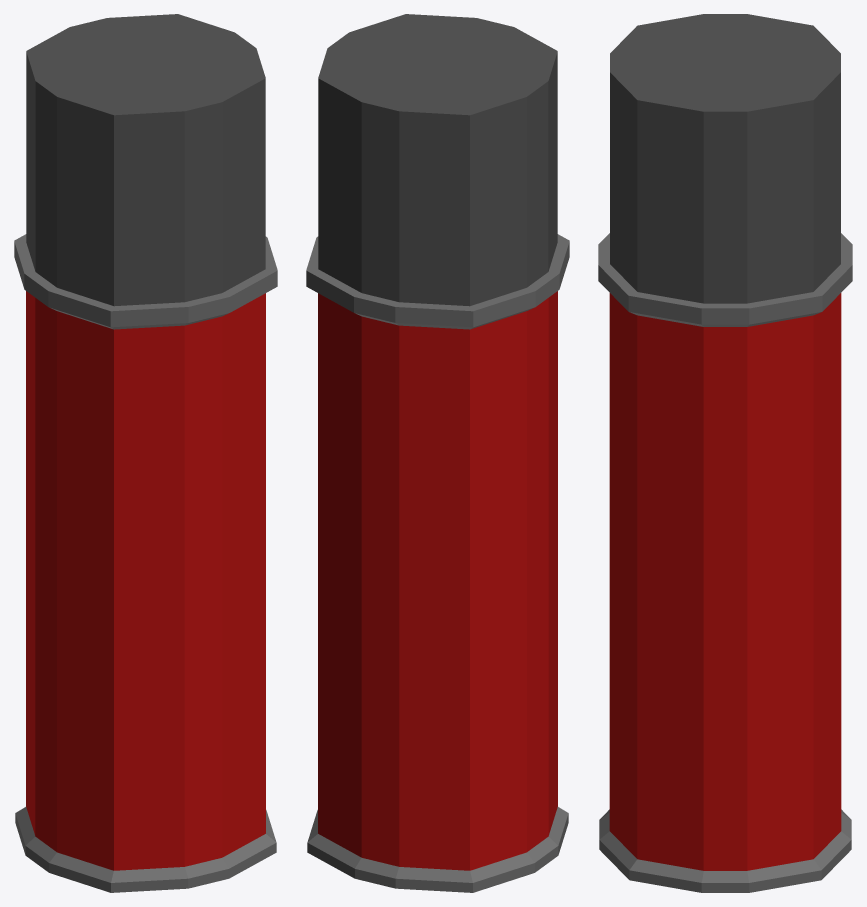
3 renders of one model, left to right at view 1: azimuth 30°, elevation 25°; view 2: azimuth 150°, elevation 25°; view 3: azimuth 270°, elevation 25°, orthographic.
Visible parts, largest first — view 1: F-31; view 2: F-31; view 3: F-31.
Part boxes in pixels (x1,y1,x2,y2): F-31: (14, 14, 277, 892); F-31: (306, 14, 569, 892); F-31: (598, 14, 852, 892).
Bounding box in the file's own units: 26.68 × 89.88 × 26.68.
